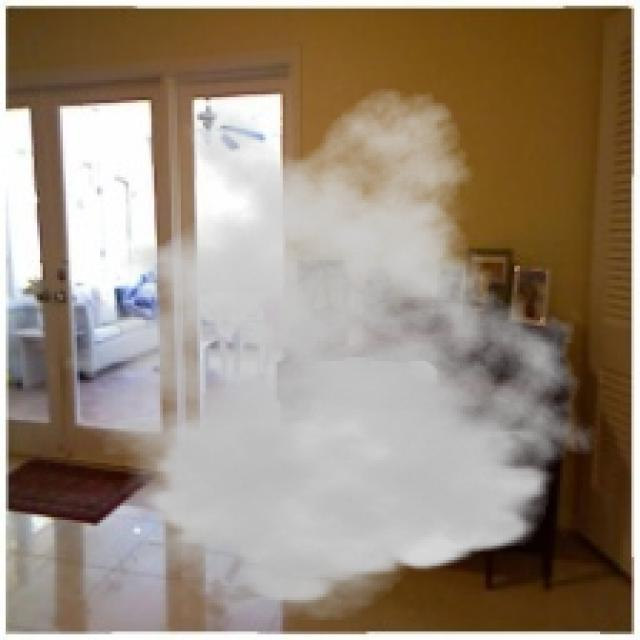smoke: (37, 86, 606, 623)
